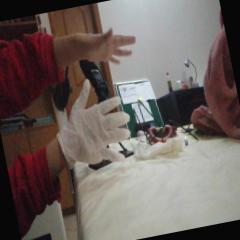gloved: (48, 72, 137, 165)
not-gloved: (66, 23, 138, 71)
